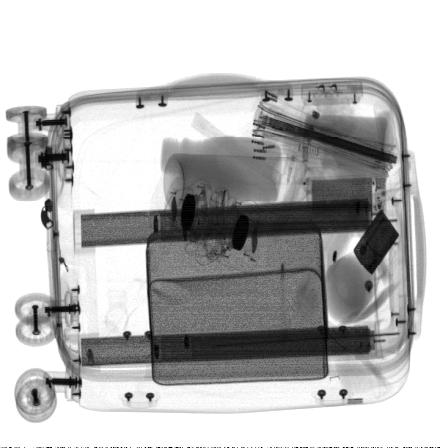Lighter: (353, 209, 400, 276)
Powerbank: (306, 174, 387, 235)
Sprayer: (163, 152, 325, 218)
